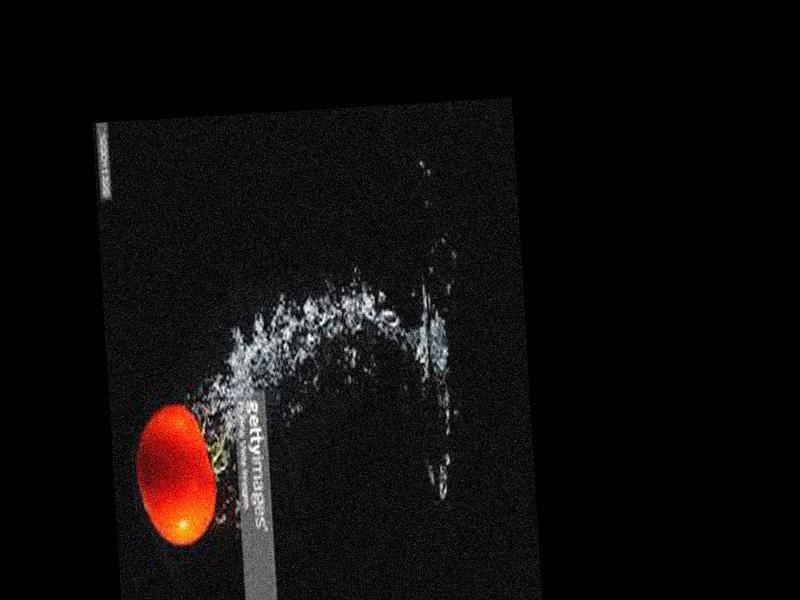Tomato: (136, 401, 219, 547)
